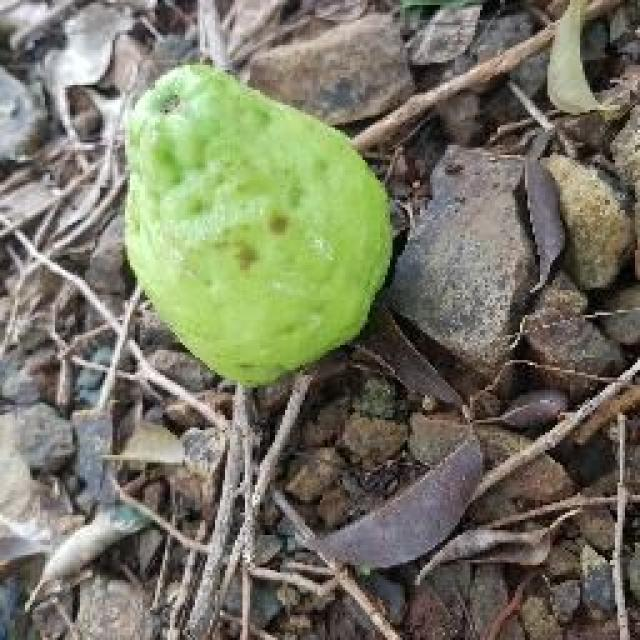Good_Guava: (122, 62, 398, 390)
